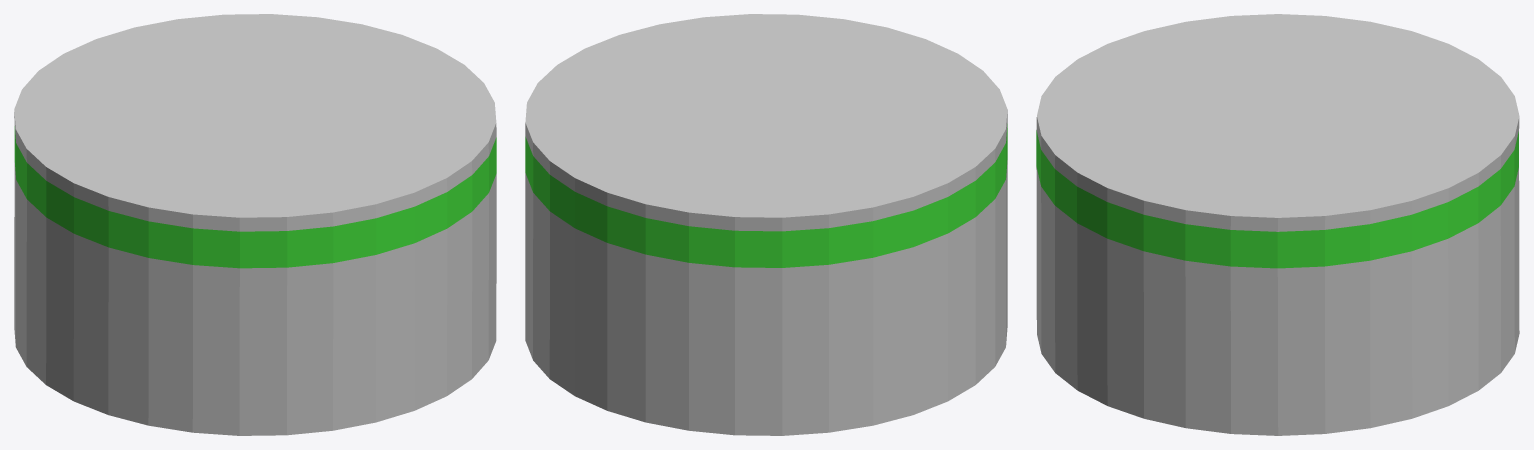
File: big_tank.fbx
3 views of the same model, side by side, from view 1: azimuth 30°, elevation 25°; view 2: azimuth 150°, elevation 25°; view 3: azimuth 270°, elevation 25° (orthographic).
Parts seen in each view (by area): view 1: Cylinder.011; view 2: Cylinder.011; view 3: Cylinder.011.
Boxes of the visible parts, x1=… form: Cylinder.011: x1=14, y1=14, x2=496, y2=435; Cylinder.011: x1=525, y1=14, x2=1007, y2=435; Cylinder.011: x1=1036, y1=14, x2=1519, y2=435.
Bounding box in the file's own units: 1160 × 1160 × 578.
